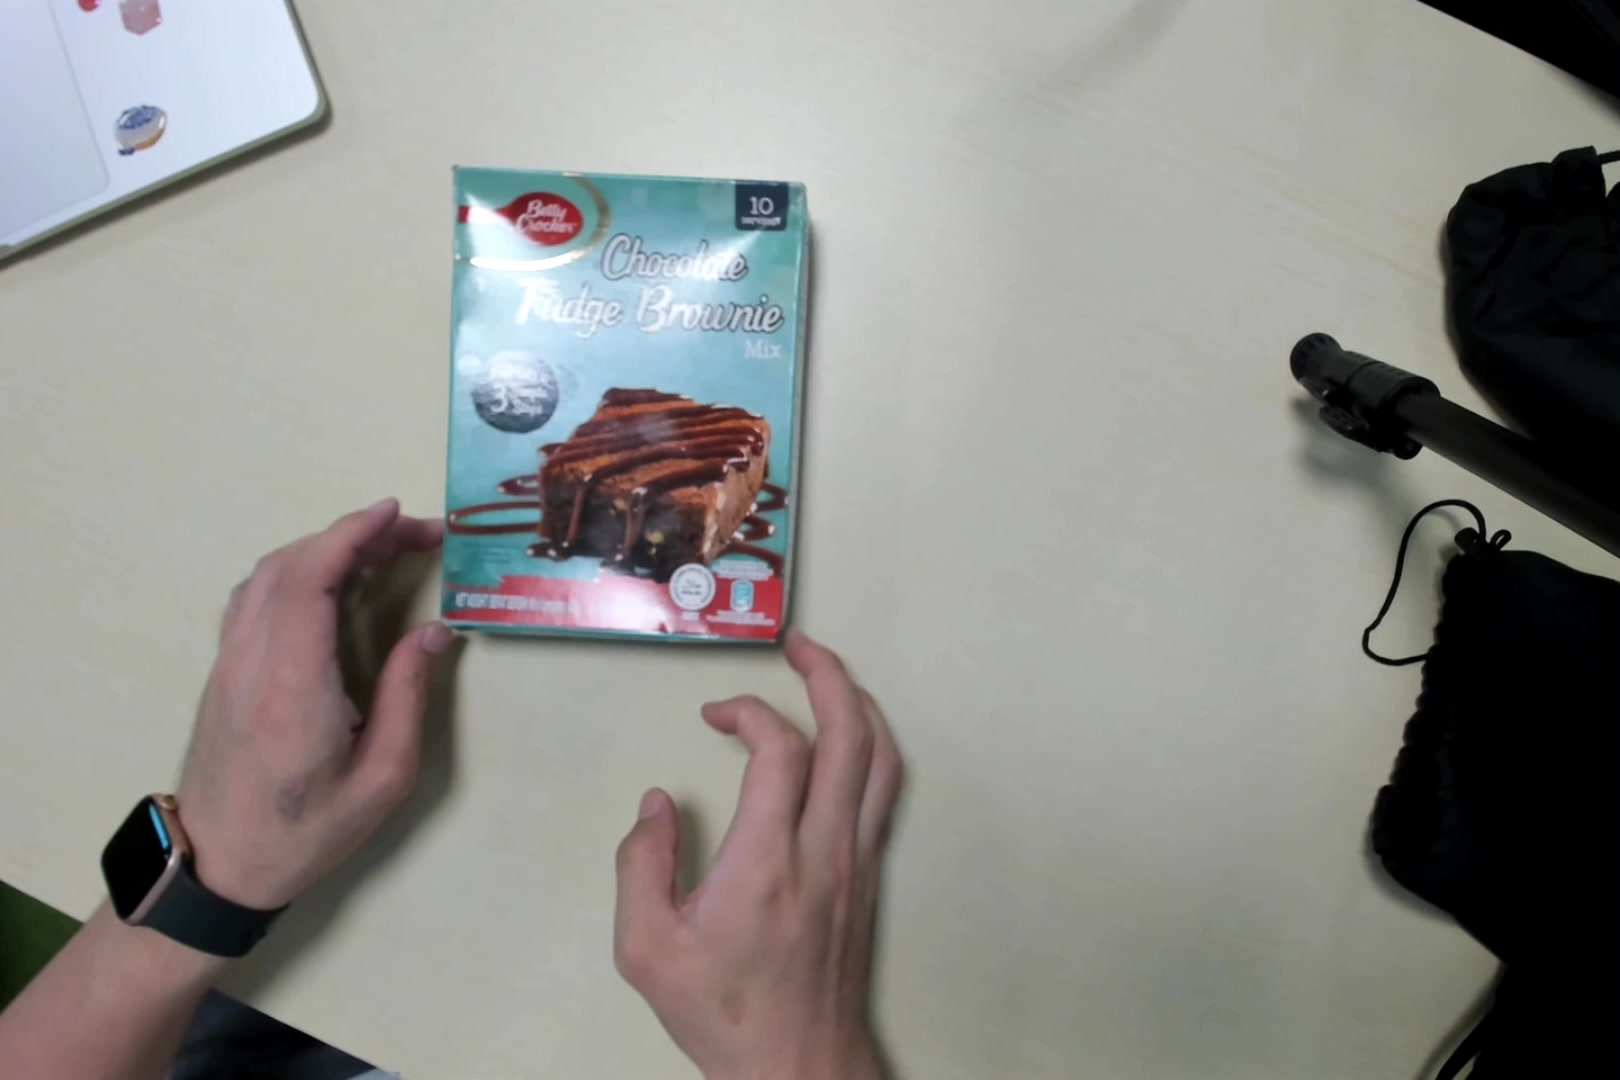OtherBakingNeeds_400-499g_Halal_NonHealthy: (438, 166, 814, 658)
